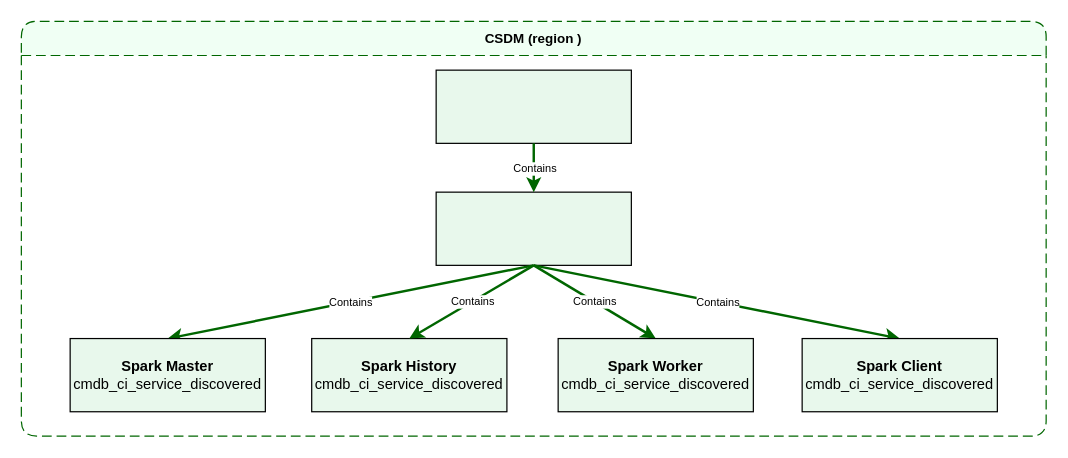
This 1068x458 diagram has some shape labels left out. The shapes that lost their labels are listed below. From the top down, each one's centre as x and y in pixels, then its label:
At point 533,106: "Data and Analytic Services cmdb_ci_business_app".
At point 533,228: "Apache Spark cmdb_ci_service".
